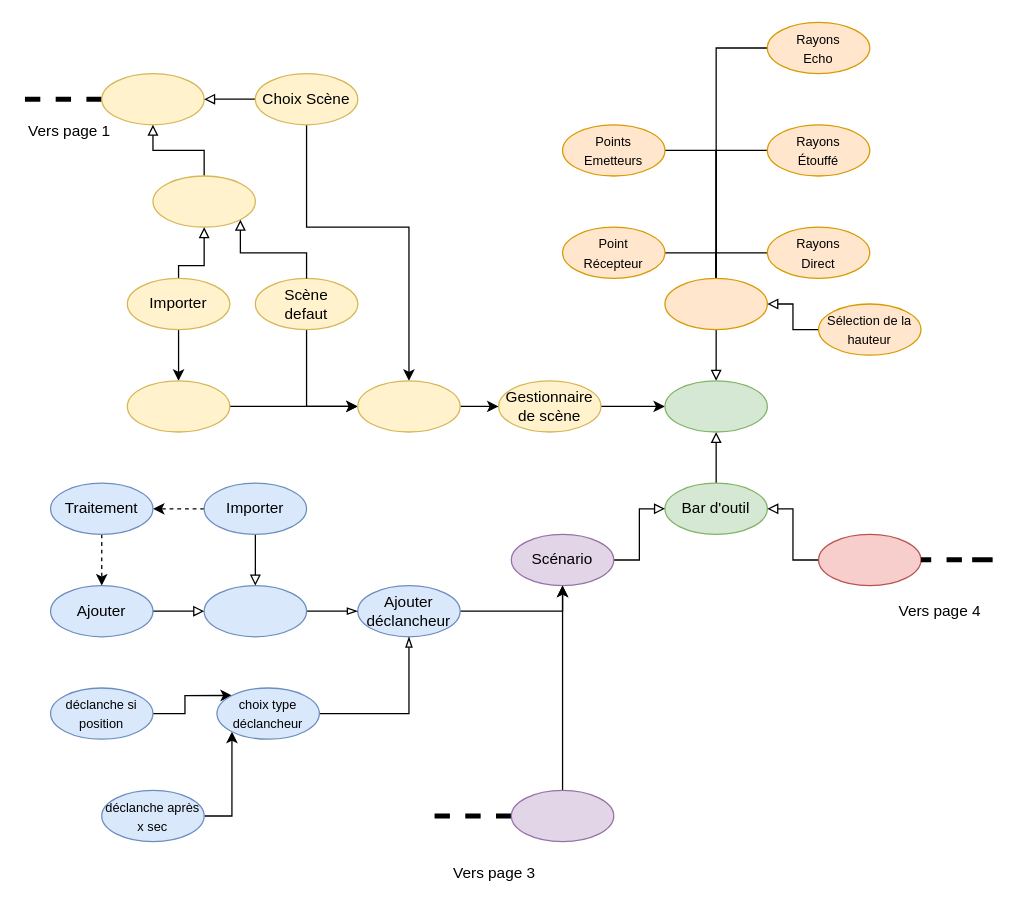
Some shapes in this 1023 by 915 pixel diagram are drawn without their labels. Each missing label, with the box of its shape:
Choisir son: (203, 584, 307, 637)
Créer nouvelle scène: (152, 175, 255, 227)
Dev Mode: (100, 72, 204, 125)
Formatteur de scène: (126, 380, 230, 432)
Interface Dev: (664, 380, 767, 432)
Paramètre son: (817, 533, 921, 586)
Représentation: (664, 277, 767, 330)
Tester Scénario: (510, 789, 614, 842)
Transformation 2D: (356, 380, 460, 432)
